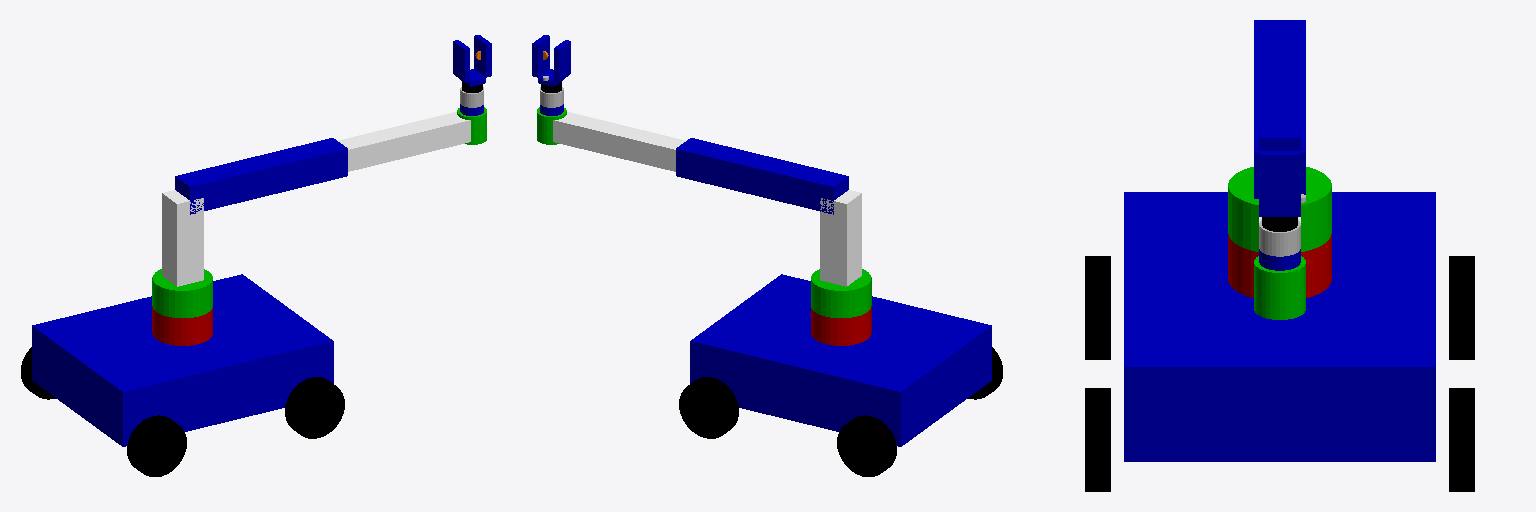
--- Facts derived from the render (not from the file) ---
3 views of the same robot in one strip: view 1: azimuth 30°, elevation 25°; view 2: azimuth 150°, elevation 25°; view 3: azimuth 270°, elevation 25° (orthographic).
Robot: fruit_harvesting_robot — 20 links, 19 joints (5 revolute, 6 continuous, 2 prismatic, 6 fixed); root link base_link; default pose: every joint at zero.
Links seen in each view (by area): view 1: base_link, upper_arm_link, forearm_link, shoulder_link, front_right_wheel, rear_right_wheel, arm_base, arm_mount, left_finger_link, right_finger_link, rear_left_wheel, wrist_link; view 2: base_link, upper_arm_link, forearm_link, shoulder_link, front_left_wheel, rear_left_wheel, arm_base, arm_mount, left_finger_link, right_finger_link, rear_right_wheel, wrist_link; view 3: base_link, upper_arm_link, arm_base, front_left_wheel, front_right_wheel, rear_left_wheel, rear_right_wheel, wrist_link, right_finger_link, arm_mount, gripper_base, left_finger_link (+1 smaller).
Link boxes in pixels (x1=…): base_link: x1=32, y1=274, x2=333, y2=446; upper_arm_link: x1=175, y1=138, x2=347, y2=214; forearm_link: x1=338, y1=112, x2=470, y2=171; shoulder_link: x1=162, y1=190, x2=203, y2=286; front_right_wheel: x1=285, y1=377, x2=344, y2=438; rear_right_wheel: x1=127, y1=415, x2=186, y2=476; arm_base: x1=152, y1=269, x2=212, y2=317; arm_mount: x1=152, y1=306, x2=212, y2=345; left_finger_link: x1=453, y1=40, x2=469, y2=82; right_finger_link: x1=474, y1=35, x2=491, y2=77; rear_left_wheel: x1=21, y1=347, x2=55, y2=399; wrist_link: x1=457, y1=107, x2=486, y2=144; base_link: x1=690, y1=274, x2=991, y2=446; upper_arm_link: x1=676, y1=138, x2=848, y2=214; forearm_link: x1=553, y1=112, x2=685, y2=171; shoulder_link: x1=820, y1=190, x2=861, y2=286; front_left_wheel: x1=679, y1=377, x2=738, y2=438; rear_left_wheel: x1=837, y1=415, x2=896, y2=476; arm_base: x1=811, y1=269, x2=871, y2=317; arm_mount: x1=811, y1=306, x2=871, y2=345; left_finger_link: x1=554, y1=40, x2=570, y2=82; right_finger_link: x1=532, y1=35, x2=549, y2=77; rear_right_wheel: x1=968, y1=347, x2=1002, y2=399; wrist_link: x1=537, y1=107, x2=566, y2=144; base_link: x1=1124, y1=192, x2=1435, y2=461; upper_arm_link: x1=1254, y1=20, x2=1305, y2=198; arm_base: x1=1228, y1=167, x2=1331, y2=251; front_left_wheel: x1=1449, y1=388, x2=1474, y2=491; front_right_wheel: x1=1085, y1=388, x2=1110, y2=491; rear_left_wheel: x1=1449, y1=256, x2=1474, y2=359; rear_right_wheel: x1=1085, y1=256, x2=1110, y2=359; wrist_link: x1=1254, y1=256, x2=1305, y2=319; right_finger_link: x1=1259, y1=151, x2=1300, y2=211; arm_mount: x1=1228, y1=234, x2=1331, y2=297; gripper_base: x1=1259, y1=220, x2=1300, y2=256; left_finger_link: x1=1259, y1=133, x2=1300, y2=150.
Bounding box of the posed robot: 1.55 × 0.75 × 1.1 m (x, y, z).
Geometry: primitives only (box / cylinder / sphere), no mesh files.

robot.urdf — fruit_harvesting_robot:
<?xml version="1.0"?>
<robot name="fruit_harvesting_robot">
  
  <!-- Materials -->
  <material name="blue">
    <color rgba="0.0 0.0 0.8 1.0"/>
  </material>
  <material name="green">
    <color rgba="0.0 0.8 0.0 1.0"/>
  </material>
  <material name="red">
    <color rgba="0.8 0.0 0.0 1.0"/>
  </material>
  <material name="white">
    <color rgba="1.0 1.0 1.0 1.0"/>
  </material>
  <material name="black">
    <color rgba="0.0 0.0 0.0 1.0"/>
  </material>
  <material name="rubber">
    <color rgba="0.4 0.4 0.4 1.0"/>
  </material>
  <material name="silver">
    <color rgba="0.8 0.8 0.8 1.0"/>
  </material>
  <material name="orange">
    <color rgba="1.0 0.5 0.0 1.0"/>
  </material>
  
  <!-- ==================== MOBILE PLATFORM ==================== -->
  <!-- Base Link -->
  <link name="base_link">
    <visual>
      <geometry>
        <box size="0.8 0.6 0.2"/>
      </geometry>
      <material name="blue"/>
      <origin xyz="0 0 0.1" rpy="0 0 0"/>
    </visual>
    <collision>
      <geometry>
        <box size="0.8 0.6 0.2"/>
      </geometry>
      <origin xyz="0 0 0.1" rpy="0 0 0"/>
    </collision>
    <inertial>
      <mass value="50.0"/>
      <inertia ixx="2.0" ixy="0.0" ixz="0.0" iyy="2.0" iyz="0.0" izz="2.0"/>
      <origin xyz="0 0 0.1" rpy="0 0 0"/>
    </inertial>
  </link>
  
  <!-- Wheels -->
  <!-- Front Left Wheel -->
  <link name="front_left_wheel">
    <visual>
      <geometry>
        <cylinder radius="0.1" length="0.05"/>
      </geometry>
      <material name="black"/>
      <origin xyz="0 0 0" rpy="1.57079632679 0 0"/>
    </visual>
    <collision>
      <geometry>
        <cylinder radius="0.1" length="0.05"/>
      </geometry>
      <origin xyz="0 0 0" rpy="1.57079632679 0 0"/>
    </collision>
    <inertial>
      <mass value="2.0"/>
      <inertia ixx="0.01" ixy="0.0" ixz="0.0" iyy="0.01" iyz="0.0" izz="0.01"/>
      <origin xyz="0 0 0" rpy="1.57079632679 0 0"/>
    </inertial>
  </link>
  
  <joint name="front_left_wheel_joint" type="continuous">
    <parent link="base_link"/>
    <child link="front_left_wheel"/>
    <origin xyz="0.3 0.35 0" rpy="0 0 0"/>
    <axis xyz="0 1 0"/>
  </joint>
  
  <!-- Front Right Wheel -->
  <link name="front_right_wheel">
    <visual>
      <geometry>
        <cylinder radius="0.1" length="0.05"/>
      </geometry>
      <material name="black"/>
      <origin xyz="0 0 0" rpy="1.57079632679 0 0"/>
    </visual>
    <collision>
      <geometry>
        <cylinder radius="0.1" length="0.05"/>
      </geometry>
      <origin xyz="0 0 0" rpy="1.57079632679 0 0"/>
    </collision>
    <inertial>
      <mass value="2.0"/>
      <inertia ixx="0.01" ixy="0.0" ixz="0.0" iyy="0.01" iyz="0.0" izz="0.01"/>
      <origin xyz="0 0 0" rpy="1.57079632679 0 0"/>
    </inertial>
  </link>
  
  <joint name="front_right_wheel_joint" type="continuous">
    <parent link="base_link"/>
    <child link="front_right_wheel"/>
    <origin xyz="0.3 -0.35 0" rpy="0 0 0"/>
    <axis xyz="0 1 0"/>
  </joint>
  
  <!-- Rear Left Wheel -->
  <link name="rear_left_wheel">
    <visual>
      <geometry>
        <cylinder radius="0.1" length="0.05"/>
      </geometry>
      <material name="black"/>
      <origin xyz="0 0 0" rpy="1.57079632679 0 0"/>
    </visual>
    <collision>
      <geometry>
        <cylinder radius="0.1" length="0.05"/>
      </geometry>
      <origin xyz="0 0 0" rpy="1.57079632679 0 0"/>
    </collision>
    <inertial>
      <mass value="2.0"/>
      <inertia ixx="0.01" ixy="0.0" ixz="0.0" iyy="0.01" iyz="0.0" izz="0.01"/>
      <origin xyz="0 0 0" rpy="1.57079632679 0 0"/>
    </inertial>
  </link>
  
  <joint name="rear_left_wheel_joint" type="continuous">
    <parent link="base_link"/>
    <child link="rear_left_wheel"/>
    <origin xyz="-0.3 0.35 0" rpy="0 0 0"/>
    <axis xyz="0 1 0"/>
  </joint>
  
  <!-- Rear Right Wheel -->
  <link name="rear_right_wheel">
    <visual>
      <geometry>
        <cylinder radius="0.1" length="0.05"/>
      </geometry>
      <material name="black"/>
      <origin xyz="0 0 0" rpy="1.57079632679 0 0"/>
    </visual>
    <collision>
      <geometry>
        <cylinder radius="0.1" length="0.05"/>
      </geometry>
      <origin xyz="0 0 0" rpy="1.57079632679 0 0"/>
    </collision>
    <inertial>
      <mass value="2.0"/>
      <inertia ixx="0.01" ixy="0.0" ixz="0.0" iyy="0.01" iyz="0.0" izz="0.01"/>
      <origin xyz="0 0 0" rpy="1.57079632679 0 0"/>
    </inertial>
  </link>
  
  <joint name="rear_right_wheel_joint" type="continuous">
    <parent link="base_link"/>
    <child link="rear_right_wheel"/>
    <origin xyz="-0.3 -0.35 0" rpy="0 0 0"/>
    <axis xyz="0 1 0"/>
  </joint>
  
  <!-- Platform to arm connection point -->
  <link name="arm_mount">
    <visual>
      <geometry>
        <cylinder radius="0.1" length="0.1"/>
      </geometry>
      <material name="red"/>
      <origin xyz="0 0 0.05" rpy="0 0 0"/>
    </visual>
    <collision>
      <geometry>
        <cylinder radius="0.1" length="0.1"/>
      </geometry>
      <origin xyz="0 0 0.05" rpy="0 0 0"/>
    </collision>
    <inertial>
      <mass value="1.0"/>
      <inertia ixx="0.01" ixy="0.0" ixz="0.0" iyy="0.01" iyz="0.0" izz="0.01"/>
      <origin xyz="0 0 0.05" rpy="0 0 0"/>
    </inertial>
  </link>
  
  <joint name="arm_mount_joint" type="fixed">
    <parent link="base_link"/>
    <child link="arm_mount"/>
    <origin xyz="0.0 0.0 0.2" rpy="0 0 0"/>
  </joint>
  
  <!-- ==================== ROBOTIC ARM ==================== -->
  <!-- Arm Base -->
  <link name="arm_base">
    <visual>
      <geometry>
        <cylinder radius="0.1" length="0.1"/>
      </geometry>
      <material name="green"/>
      <origin xyz="0 0 0.05" rpy="0 0 0"/>
    </visual>
    <collision>
      <geometry>
        <cylinder radius="0.1" length="0.1"/>
      </geometry>
      <origin xyz="0 0 0.05" rpy="0 0 0"/>
    </collision>
    <inertial>
      <mass value="2.0"/>
      <inertia ixx="0.01" ixy="0.0" ixz="0.0" iyy="0.01" iyz="0.0" izz="0.01"/>
      <origin xyz="0 0 0.05" rpy="0 0 0"/>
    </inertial>
  </link>
  
  <joint name="arm_to_platform" type="revolute">
    <parent link="arm_mount"/>
    <child link="arm_base"/>
    <origin xyz="0 0 0.1" rpy="0 0 0"/>
    <axis xyz="0 0 1"/>
    <limit lower="-3.14159" upper="3.14159" effort="100" velocity="1.0"/>
  </joint>
  
  <!-- Shoulder Link -->
  <link name="shoulder_link">
    <visual>
      <geometry>
        <box size="0.1 0.1 0.3"/>
      </geometry>
      <material name="white"/>
      <origin xyz="0 0 0.15" rpy="0 0 0"/>
    </visual>
    <collision>
      <geometry>
        <box size="0.1 0.1 0.3"/>
      </geometry>
      <origin xyz="0 0 0.15" rpy="0 0 0"/>
    </collision>
    <inertial>
      <mass value="2.0"/>
      <inertia ixx="0.01" ixy="0.0" ixz="0.0" iyy="0.01" iyz="0.0" izz="0.01"/>
      <origin xyz="0 0 0.15" rpy="0 0 0"/>
    </inertial>
  </link>
  
  <joint name="shoulder_joint" type="revolute">
    <parent link="arm_base"/>
    <child link="shoulder_link"/>
    <origin xyz="0 0 0.1" rpy="0 0 0"/>
    <axis xyz="0 1 0"/>
    <limit lower="-1.57079" upper="1.57079" effort="100" velocity="1.0"/>
  </joint>
  
  <!-- Upper Arm Link -->
  <link name="upper_arm_link">
    <visual>
      <geometry>
        <box size="0.6 0.1 0.1"/>
      </geometry>
      <material name="blue"/>
      <origin xyz="0.3 0 0" rpy="0 0 0"/>
    </visual>
    <collision>
      <geometry>
        <box size="0.6 0.1 0.1"/>
      </geometry>
      <origin xyz="0.3 0 0" rpy="0 0 0"/>
    </collision>
    <inertial>
      <mass value="3.0"/>
      <inertia ixx="0.01" ixy="0.0" ixz="0.0" iyy="0.01" iyz="0.0" izz="0.01"/>
      <origin xyz="0.3 0 0" rpy="0 0 0"/>
    </inertial>
  </link>
  
  <joint name="upper_arm_joint" type="revolute">
    <parent link="shoulder_link"/>
    <child link="upper_arm_link"/>
    <origin xyz="0 0 0.3" rpy="0 0 0"/>
    <axis xyz="0 1 0"/>
    <limit lower="-1.57079" upper="1.57079" effort="100" velocity="1.0"/>
  </joint>
  
  <!-- Forearm Link -->
  <link name="forearm_link">
    <visual>
      <geometry>
        <box size="0.5 0.08 0.08"/>
      </geometry>
      <material name="white"/>
      <origin xyz="0.25 0 0" rpy="0 0 0"/>
    </visual>
    <collision>
      <geometry>
        <box size="0.5 0.08 0.08"/>
      </geometry>
      <origin xyz="0.25 0 0" rpy="0 0 0"/>
    </collision>
    <inertial>
      <mass value="2.0"/>
      <inertia ixx="0.01" ixy="0.0" ixz="0.0" iyy="0.01" iyz="0.0" izz="0.01"/>
      <origin xyz="0.25 0 0" rpy="0 0 0"/>
    </inertial>
  </link>
  
  <joint name="elbow_joint" type="revolute">
    <parent link="upper_arm_link"/>
    <child link="forearm_link"/>
    <origin xyz="0.6 0 0" rpy="0 0 0"/>
    <axis xyz="0 1 0"/>
    <limit lower="-2.0" upper="2.0" effort="100" velocity="1.0"/>
  </joint>
  
  <!-- Wrist Link -->
  <link name="wrist_link">
    <visual>
      <geometry>
        <cylinder radius="0.05" length="0.1"/>
      </geometry>
      <material name="green"/>
      <origin xyz="0 0 0" rpy="0 0 0"/>
    </visual>
    <collision>
      <geometry>
        <cylinder radius="0.05" length="0.1"/>
      </geometry>
      <origin xyz="0 0 0" rpy="0 0 0"/>
    </collision>
    <inertial>
      <mass value="1.0"/>
      <inertia ixx="0.01" ixy="0.0" ixz="0.0" iyy="0.01" iyz="0.0" izz="0.01"/>
      <origin xyz="0 0 0" rpy="0 0 0"/>
    </inertial>
  </link>
  
  <joint name="wrist_pitch_joint" type="revolute">
    <parent link="forearm_link"/>
    <child link="wrist_link"/>
    <origin xyz="0.5 0 0" rpy="0 0 0"/>
    <axis xyz="0 1 0"/>
    <limit lower="-1.57079" upper="1.57079" effort="50" velocity="1.0"/>
  </joint>
  
  <!-- Wrist Roll Link -->
  <link name="wrist_roll_link">
    <visual>
      <geometry>
        <cylinder radius="0.04" length="0.08"/>
      </geometry>
      <material name="blue"/>
      <origin xyz="0 0 0.04" rpy="0 0 0"/>
    </visual>
    <collision>
      <geometry>
        <cylinder radius="0.04" length="0.08"/>
      </geometry>
      <origin xyz="0 0 0.04" rpy="0 0 0"/>
    </collision>
    <inertial>
      <mass value="0.5"/>
      <inertia ixx="0.01" ixy="0.0" ixz="0.0" iyy="0.01" iyz="0.0" izz="0.01"/>
      <origin xyz="0 0 0.04" rpy="0 0 0"/>
    </inertial>
  </link>
  
  <!-- Wrist roll joint for rotation around vertical axis -->
  <joint name="wrist_roll_joint" type="continuous">
    <parent link="wrist_link"/>
    <child link="wrist_roll_link"/>
    <origin xyz="0 0 0" rpy="0 0 0"/>
    <axis xyz="0 1 0"/>
    <limit effort="50" velocity="1.0"/>
  </joint>
  
  <!-- Specialized Orange Harvesting End Effector -->
  <link name="gripper_base">
    <visual>
      <geometry>
        <cylinder length="0.05" radius="0.04"/>
      </geometry>
      <material name="silver"/>
      <origin xyz="0 0 0.025" rpy="0 0 0"/>
    </visual>
    <collision>
      <geometry>
        <cylinder length="0.05" radius="0.04"/>
      </geometry>
      <origin xyz="0 0 0.025" rpy="0 0 0"/>
    </collision>
    <inertial>
      <mass value="0.5"/>
      <inertia ixx="0.001" ixy="0" ixz="0" iyy="0.001" iyz="0" izz="0.001"/>
      <origin xyz="0 0 0.025" rpy="0 0 0"/>
    </inertial>
  </link>

  <joint name="gripper_mount" type="fixed">
    <parent link="wrist_roll_link"/>
    <child link="gripper_base"/>
    <origin xyz="0 0 0.08" rpy="0 0 0"/>
  </joint>

  <!-- Rotary mechanism -->
  <link name="rotary_link">
    <visual>
      <geometry>
        <cylinder length="0.03" radius="0.035"/>
      </geometry>
      <material name="black"/>
      <origin xyz="0 0 0.015" rpy="0 0 0"/>
    </visual>
    <collision>
      <geometry>
        <cylinder length="0.03" radius="0.035"/>
      </geometry>
      <origin xyz="0 0 0.015" rpy="0 0 0"/>
    </collision>
    <inertial>
      <mass value="0.3"/>
      <inertia ixx="0.0005" ixy="0" ixz="0" iyy="0.0005" iyz="0" izz="0.0005"/>
      <origin xyz="0 0 0.015" rpy="0 0 0"/>
    </inertial>
  </link>

  <!-- Spin joint for rotation -->
  <joint name="spin_joint" type="continuous">
    <parent link="gripper_base"/>
    <child link="rotary_link"/>
    <origin xyz="0 0 0.05" rpy="0 0 0"/>
    <axis xyz="0 0 1"/>
    <dynamics damping="0.1" friction="0.1"/>
    <limit effort="50" velocity="5"/>
  </joint>

  <!-- Palm -->
  <link name="palm_link">
    <visual>
      <geometry>
        <box size="0.06 0.08 0.02"/>
      </geometry>
      <material name="blue"/>
      <origin xyz="0 0 0.01" rpy="0 0 0"/>
    </visual>
    <collision>
      <geometry>
        <box size="0.06 0.08 0.02"/>
      </geometry>
      <origin xyz="0 0 0.01" rpy="0 0 0"/>
    </collision>
    <inertial>
      <mass value="0.2"/>
      <inertia ixx="0.0003" ixy="0" ixz="0" iyy="0.0003" iyz="0" izz="0.0003"/>
      <origin xyz="0 0 0.01" rpy="0 0 0"/>
    </inertial>
  </link>

  <joint name="rotary_to_palm" type="fixed">
    <parent link="rotary_link"/>
    <child link="palm_link"/>
    <origin xyz="0 0 0.03" rpy="0 0 0"/>
  </joint>

  <!-- Fingers with pads -->
  <link name="left_finger_link">
    <visual>
      <geometry>
        <box size="0.02 0.08 0.12"/>
      </geometry>
      <material name="blue"/>
      <origin xyz="0 0 0.06" rpy="0 0 0"/>
    </visual>
    <collision>
      <geometry>
        <box size="0.02 0.08 0.12"/>
      </geometry>
      <origin xyz="0 0 0.06" rpy="0 0 0"/>
    </collision>
    <inertial>
      <mass value="0.1"/>
      <inertia ixx="0.0001" ixy="0" ixz="0" iyy="0.0001" iyz="0" izz="0.0001"/>
      <origin xyz="0 0 0.06" rpy="0 0 0"/>
    </inertial>
  </link>

  <link name="right_finger_link">
    <visual>
      <geometry>
        <box size="0.02 0.08 0.12"/>
      </geometry>
      <material name="blue"/>
      <origin xyz="0 0 0.06" rpy="0 0 0"/>
    </visual>
    <collision>
      <geometry>
        <box size="0.02 0.08 0.12"/>
      </geometry>
      <origin xyz="0 0 0.06" rpy="0 0 0"/>
    </collision>
    <inertial>
      <mass value="0.1"/>
      <inertia ixx="0.0001" ixy="0" ixz="0" iyy="0.0001" iyz="0" izz="0.0001"/>
      <origin xyz="0 0 0.06" rpy="0 0 0"/>
    </inertial>
  </link>

  <!-- Finger pads -->
  <link name="left_pad_link">
    <visual>
      <geometry>
        <cylinder length="0.01" radius="0.015"/>
      </geometry>
      <material name="orange"/>
      <origin xyz="0 0 0.005" rpy="1.5708 0 0"/>
    </visual>
    <collision>
      <geometry>
        <cylinder length="0.01" radius="0.015"/>
      </geometry>
      <origin xyz="0 0 0.005" rpy="1.5708 0 0"/>
    </collision>
    <inertial>
      <mass value="0.02"/>
      <inertia ixx="0.00001" ixy="0" ixz="0" iyy="0.00001" iyz="0" izz="0.00001"/>
      <origin xyz="0 0 0.005" rpy="1.5708 0 0"/>
    </inertial>
  </link>

  <link name="right_pad_link">
    <visual>
      <geometry>
        <cylinder length="0.01" radius="0.015"/>
      </geometry>
      <material name="orange"/>
      <origin xyz="0 0 0.005" rpy="1.5708 0 0"/>
    </visual>
    <collision>
      <geometry>
        <cylinder length="0.01" radius="0.015"/>
      </geometry>
      <origin xyz="0 0 0.005" rpy="1.5708 0 0"/>
    </collision>
    <inertial>
      <mass value="0.02"/>
      <inertia ixx="0.00001" ixy="0" ixz="0" iyy="0.00001" iyz="0" izz="0.00001"/>
      <origin xyz="0 0 0.005" rpy="1.5708 0 0"/>
    </inertial>
  </link>

  <!-- Finger joints -->
  <joint name="left_finger_joint" type="prismatic">
    <parent link="palm_link"/>
    <child link="left_finger_link"/>
    <origin xyz="-0.04 0 0.02" rpy="0 0 0"/>
    <axis xyz="1 0 0"/>
    <limit lower="0" upper="0.03" effort="50" velocity="1"/>
    <dynamics damping="0.5" friction="0.5"/>
  </joint>

  <joint name="right_finger_joint" type="prismatic">
    <parent link="palm_link"/>
    <child link="right_finger_link"/>
    <origin xyz="0.04 0 0.02" rpy="0 0 0"/>
    <axis xyz="-1 0 0"/>
    <limit lower="0" upper="0.03" effort="50" velocity="1"/>
    <dynamics damping="0.5" friction="0.5"/>
  </joint>

  <!-- Pad joints -->
  <joint name="left_finger_pad_joint" type="fixed">
    <parent link="left_finger_link"/>
    <child link="left_pad_link"/>
    <origin xyz="0.01 0 0.06" rpy="0 0 0"/>
  </joint>

  <joint name="right_finger_pad_joint" type="fixed">
    <parent link="right_finger_link"/>
    <child link="right_pad_link"/>
    <origin xyz="-0.01 0 0.06" rpy="0 0 0"/>
  </joint>

  <!-- Cutter -->
  <link name="cutter_link">
    <visual>
      <geometry>
        <cylinder length="0.01" radius="0.01"/>
      </geometry>
      <material name="silver"/>
      <origin xyz="0 0 0.005" rpy="0 0 0"/>
    </visual>
    <collision>
      <geometry>
        <cylinder length="0.01" radius="0.01"/>
      </geometry>
      <origin xyz="0 0 0.005" rpy="0 0 0"/>
    </collision>
    <inertial>
      <mass value="0.05"/>
      <inertia ixx="0.00001" ixy="0" ixz="0" iyy="0.00001" iyz="0" izz="0.00001"/>
      <origin xyz="0 0 0.005" rpy="0 0 0"/>
    </inertial>
  </link>

  <joint name="cutter_joint" type="fixed">
    <parent link="palm_link"/>
    <child link="cutter_link"/>
    <origin xyz="0 0.04 0.02" rpy="0 0 0"/>
  </joint>
  
  <!-- Transmission Elements for Control -->
  <transmission name="arm_to_platform_trans">
    <type>transmission_interface/SimpleTransmission</type>
    <joint name="arm_to_platform">
      <hardwareInterface>hardware_interface/PositionJointInterface</hardwareInterface>
    </joint>
    <actuator name="arm_to_platform_motor">
      <mechanicalReduction>1</mechanicalReduction>
      <hardwareInterface>hardware_interface/PositionJointInterface</hardwareInterface>
    </actuator>
  </transmission>
  
  <transmission name="shoulder_joint_trans">
    <type>transmission_interface/SimpleTransmission</type>
    <joint name="shoulder_joint">
      <hardwareInterface>hardware_interface/PositionJointInterface</hardwareInterface>
    </joint>
    <actuator name="shoulder_motor">
      <mechanicalReduction>1</mechanicalReduction>
      <hardwareInterface>hardware_interface/PositionJointInterface</hardwareInterface>
    </actuator>
  </transmission>
  
  <transmission name="upper_arm_joint_trans">
    <type>transmission_interface/SimpleTransmission</type>
    <joint name="upper_arm_joint">
      <hardwareInterface>hardware_interface/PositionJointInterface</hardwareInterface>
    </joint>
    <actuator name="upper_arm_motor">
      <mechanicalReduction>1</mechanicalReduction>
      <hardwareInterface>hardware_interface/PositionJointInterface</hardwareInterface>
    </actuator>
  </transmission>
  
  <transmission name="elbow_joint_trans">
    <type>transmission_interface/SimpleTransmission</type>
    <joint name="elbow_joint">
      <hardwareInterface>hardware_interface/PositionJointInterface</hardwareInterface>
    </joint>
    <actuator name="elbow_motor">
      <mechanicalReduction>1</mechanicalReduction>
      <hardwareInterface>hardware_interface/PositionJointInterface</hardwareInterface>
    </actuator>
  </transmission>
  
  <transmission name="wrist_pitch_joint_trans">
    <type>transmission_interface/SimpleTransmission</type>
    <joint name="wrist_pitch_joint">
      <hardwareInterface>hardware_interface/PositionJointInterface</hardwareInterface>
    </joint>
    <actuator name="wrist_pitch_motor">
      <mechanicalReduction>1</mechanicalReduction>
      <hardwareInterface>hardware_interface/PositionJointInterface</hardwareInterface>
    </actuator>
  </transmission>
  
  <transmission name="wrist_roll_joint_trans">
    <type>transmission_interface/SimpleTransmission</type>
    <joint name="wrist_roll_joint">
      <hardwareInterface>hardware_interface/PositionJointInterface</hardwareInterface>
    </joint>
    <actuator name="wrist_roll_motor">
      <mechanicalReduction>1</mechanicalReduction>
      <hardwareInterface>hardware_interface/PositionJointInterface</hardwareInterface>
    </actuator>
  </transmission>
  
  <!-- Fruit Gripper Transmissions -->
  <!-- Fruit Gripper Transmissions -->
  <transmission name="spin_joint_trans">
    <type>transmission_interface/SimpleTransmission</type>
    <joint name="spin_joint">
      <hardwareInterface>hardware_interface/VelocityJointInterface</hardwareInterface>
    </joint>
    <actuator name="spin_motor">
      <mechanicalReduction>1</mechanicalReduction>
      <hardwareInterface>hardware_interface/VelocityJointInterface</hardwareInterface>
    </actuator>
  </transmission>

  <transmission name="left_finger_trans">
    <type>transmission_interface/SimpleTransmission</type>
    <joint name="left_finger_joint">
      <hardwareInterface>hardware_interface/PositionJointInterface</hardwareInterface>
    </joint>
    <actuator name="left_finger_motor">
      <mechanicalReduction>1</mechanicalReduction>
      <hardwareInterface>hardware_interface/PositionJointInterface</hardwareInterface>
    </actuator>
  </transmission>

  <transmission name="right_finger_trans">
    <type>transmission_interface/SimpleTransmission</type>
    <joint name="right_finger_joint">
      <hardwareInterface>hardware_interface/PositionJointInterface</hardwareInterface>
    </joint>
    <actuator name="right_finger_motor">
      <mechanicalReduction>1</mechanicalReduction>
      <hardwareInterface>hardware_interface/PositionJointInterface</hardwareInterface>
    </actuator>
  </transmission>
  
  <!-- Wheel Transmissions -->
  <transmission name="front_left_wheel_trans">
    <type>transmission_interface/SimpleTransmission</type>
    <joint name="front_left_wheel_joint">
      <hardwareInterface>hardware_interface/VelocityJointInterface</hardwareInterface>
    </joint>
    <actuator name="front_left_wheel_motor">
      <mechanicalReduction>1</mechanicalReduction>
      <hardwareInterface>hardware_interface/VelocityJointInterface</hardwareInterface>
    </actuator>
  </transmission>
  
  <transmission name="front_right_wheel_trans">
    <type>transmission_interface/SimpleTransmission</type>
    <joint name="front_right_wheel_joint">
      <hardwareInterface>hardware_interface/VelocityJointInterface</hardwareInterface>
    </joint>
    <actuator name="front_right_wheel_motor">
      <mechanicalReduction>1</mechanicalReduction>
      <hardwareInterface>hardware_interface/VelocityJointInterface</hardwareInterface>
    </actuator>
  </transmission>
  
  <transmission name="rear_left_wheel_trans">
    <type>transmission_interface/SimpleTransmission</type>
    <joint name="rear_left_wheel_joint">
      <hardwareInterface>hardware_interface/VelocityJointInterface</hardwareInterface>
    </joint>
    <actuator name="rear_left_wheel_motor">
      <mechanicalReduction>1</mechanicalReduction>
      <hardwareInterface>hardware_interface/VelocityJointInterface</hardwareInterface>
    </actuator>
  </transmission>
  
  <transmission name="rear_right_wheel_trans">
    <type>transmission_interface/SimpleTransmission</type>
    <joint name="rear_right_wheel_joint">
      <hardwareInterface>hardware_interface/VelocityJointInterface</hardwareInterface>
    </joint>
    <actuator name="rear_right_wheel_motor">
      <mechanicalReduction>1</mechanicalReduction>
      <hardwareInterface>hardware_interface/VelocityJointInterface</hardwareInterface>
    </actuator>
  </transmission>
  
  <!-- Gazebo Plugin for ROS Control -->
  <gazebo>
    <plugin name="gazebo_ros_control" filename="libgazebo_ros_control.so">
      <robotNamespace>/fruit_harvesting_robot</robotNamespace>
      <robotSimType>gazebo_ros_control/DefaultRobotHWSim</robotSimType>
    </plugin>
  </gazebo>

  <!-- Material properties for the rubber padding -->
  <gazebo reference="finger_1">
    <material>Gazebo/Grey</material>
    <mu1>1.2</mu1>
    <mu2>1.2</mu2>
    <kp>1000000.0</kp>
    <kd>1.0</kd>
    <maxVel>0.1</maxVel>
    <minDepth>0.001</minDepth>
  </gazebo>

  <gazebo reference="finger_2">
    <material>Gazebo/Grey</material>
    <mu1>1.2</mu1>
    <mu2>1.2</mu2>
    <kp>1000000.0</kp>
    <kd>1.0</kd>
    <maxVel>0.1</maxVel>
    <minDepth>0.001</minDepth>
  </gazebo>

  <gazebo reference="finger_3">
    <material>Gazebo/Grey</material>
    <mu1>1.2</mu1>
    <mu2>1.2</mu2>
    <kp>1000000.0</kp>
    <kd>1.0</kd>
    <maxVel>0.1</maxVel>
    <minDepth>0.001</minDepth>
  </gazebo>

</robot>
